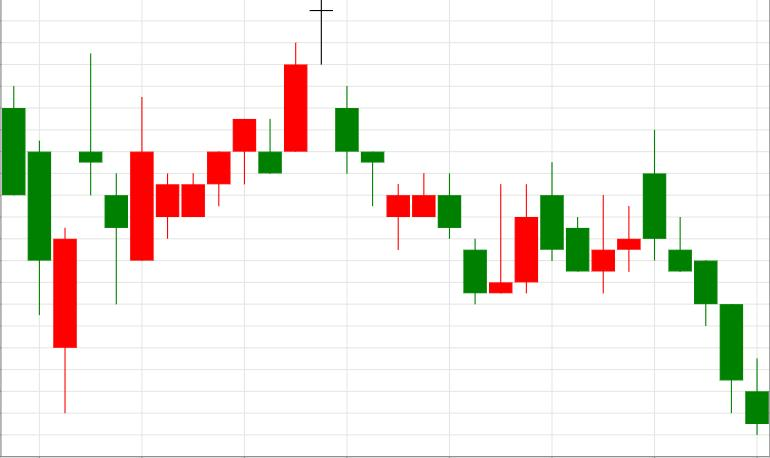evening_star_fall: (129, 0, 359, 261)
